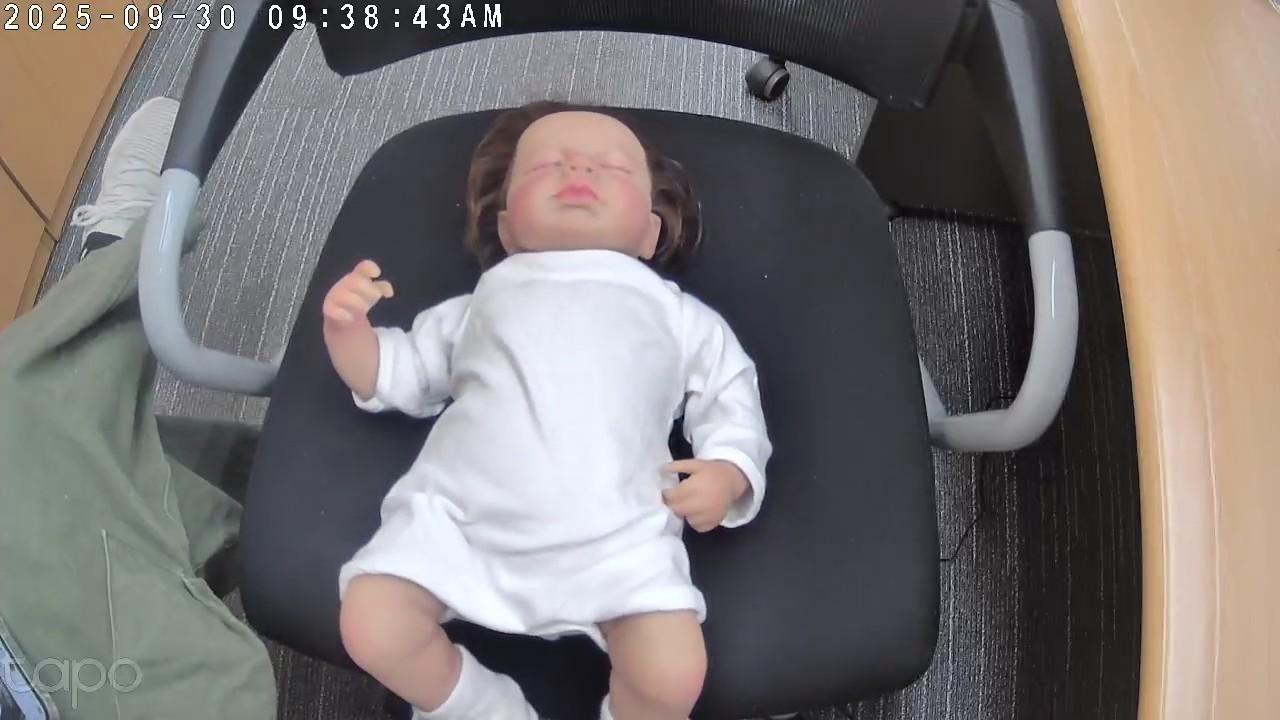hand: (658, 457, 738, 532), (320, 262, 397, 329)
